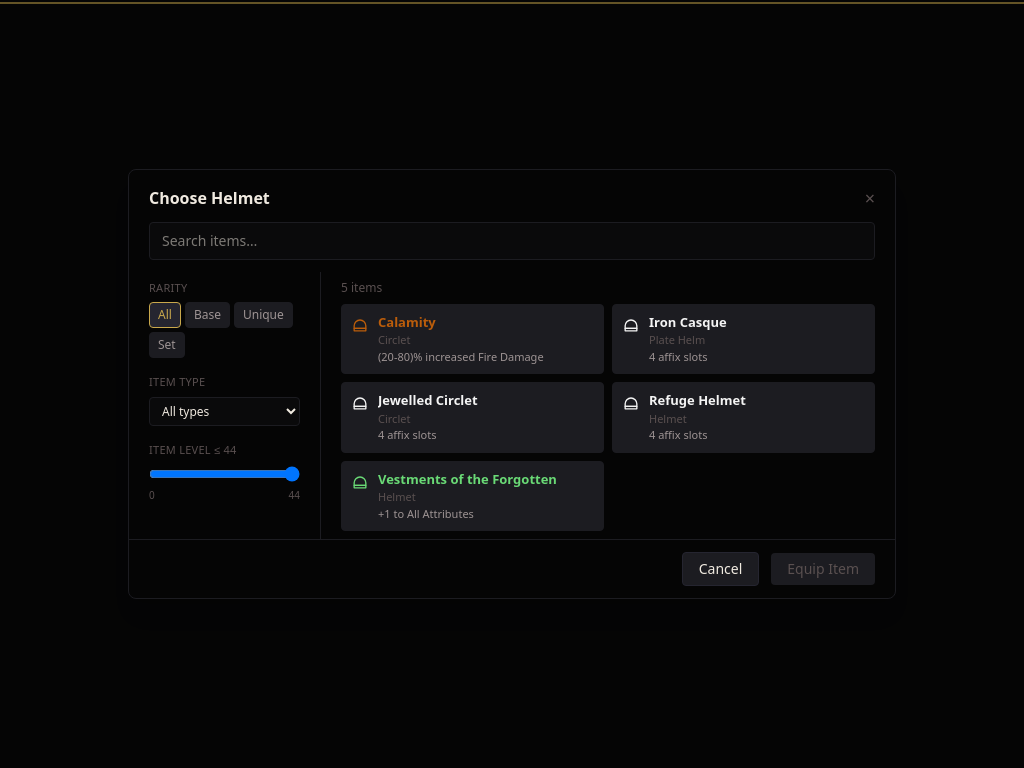
Test: ItemPickerModal › hovering a card shows a tooltip with the real implicit stat text
The width and height of the screenshot is (1024, 768).
Hover over the cell named "Jewelled Circlet, Circlet" at (428, 400), box [341,382,604,453]
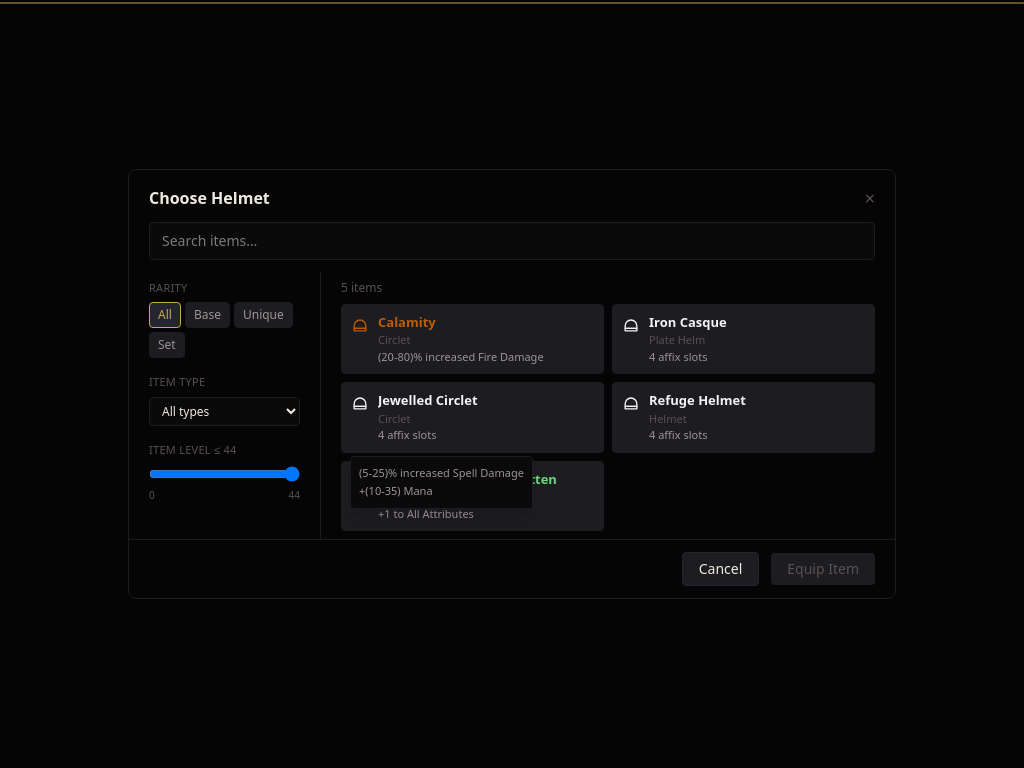
Result: the tooltip shows "(5-25)% increased Spell Damage" at [359,465,524,480]
Result: the tooltip shows "+(10-35) Mana" at [359,483,433,498]
